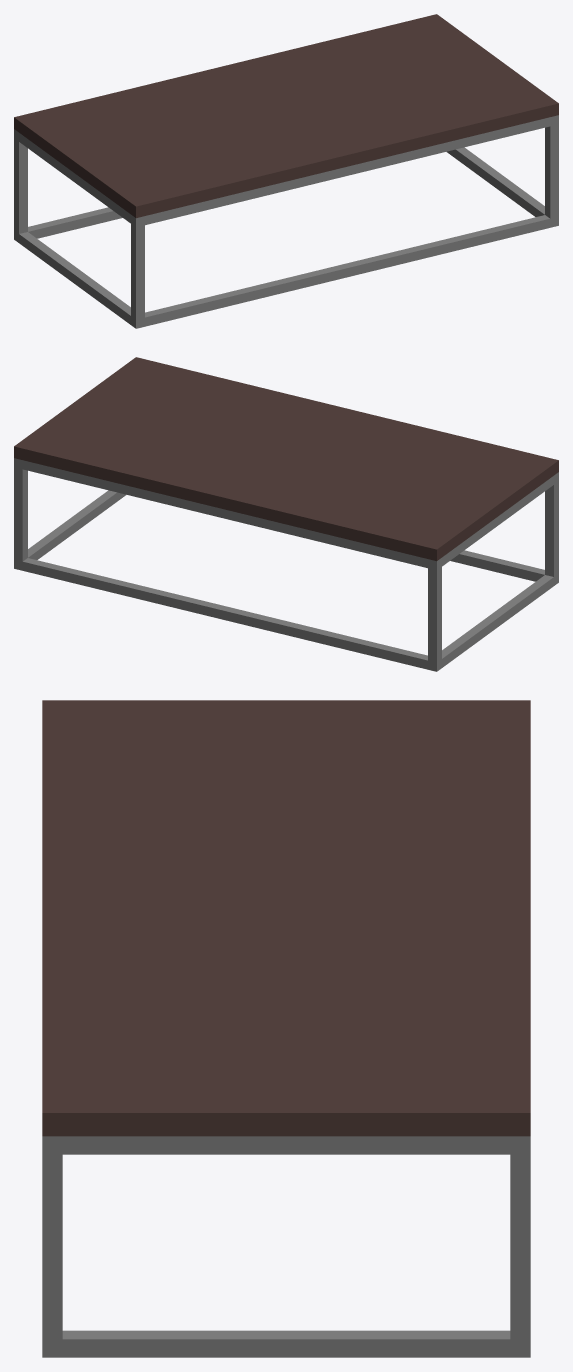
Rendered from CoffeeTable.fbx.
3 renders of one model, top to bottom at view 1: azimuth 30°, elevation 25°; view 2: azimuth 150°, elevation 25°; view 3: azimuth 270°, elevation 25°, orthographic. The views are drawn at different scales.
Visible parts, largest first — view 1: Cube.053; view 2: Cube.053; view 3: Cube.053.
Boxes of the visible parts, x1,y1,x2,y2 form: Cube.053: [14, 14, 558, 328]; Cube.053: [14, 357, 558, 671]; Cube.053: [42, 700, 530, 1357].
Bounding box in the file's own units: 2 × 0.5526 × 1.
